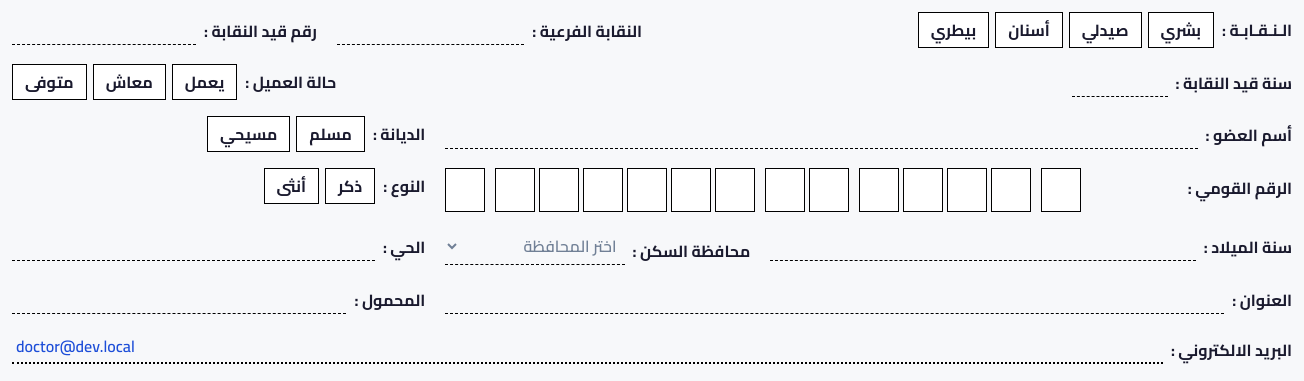
Test: MemberSection (PROMPT.md §9.4) › fills birth year and gender from a pasted national ID
The width and height of the screenshot is (1304, 381).
Click the field named "الرقم 1 من 14": click(465, 190) [445,168,485,212]
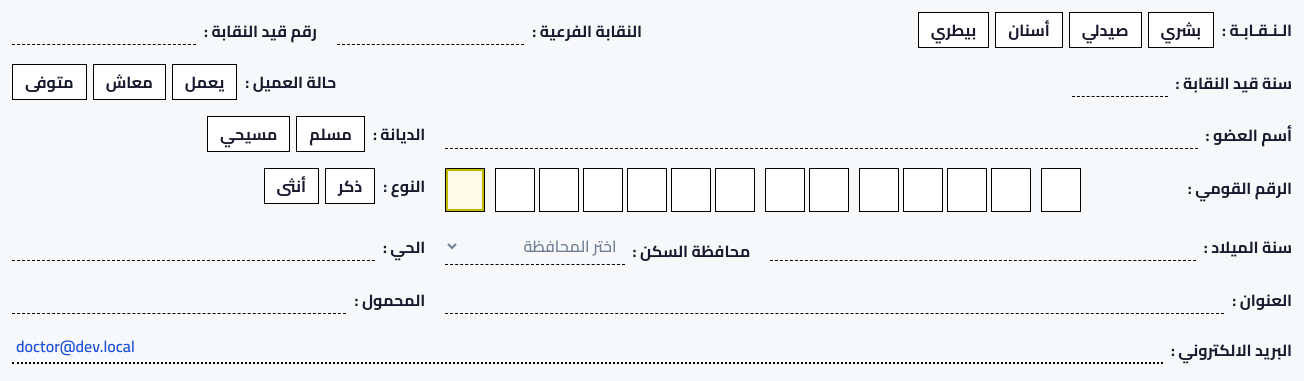
Type keys "٢٨٥٠٦١٥٠١٠١٢٣٤"
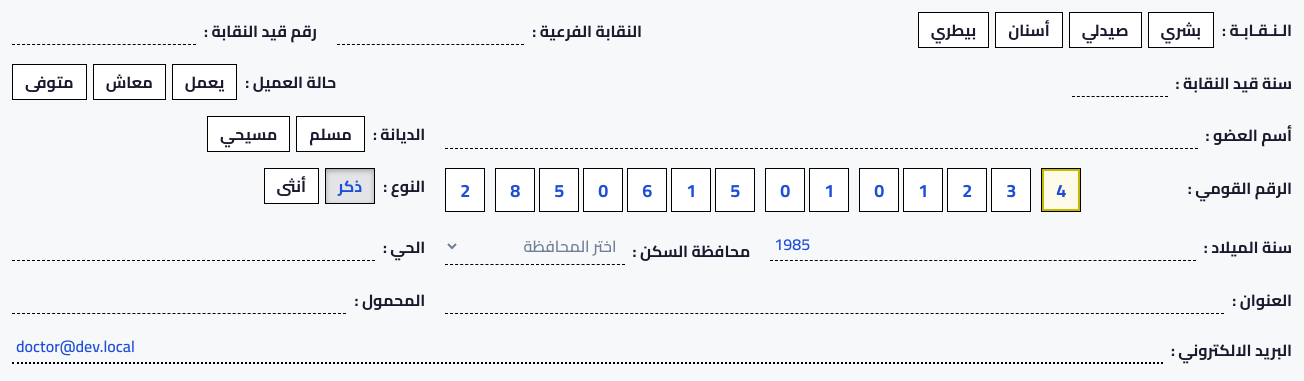
Expected: the field labelled "سنة الميلاد :" holds "1985", [770,228,1196,261]
Expected: the radio button labelled "ذكر" is checked, [325,168,375,204]
